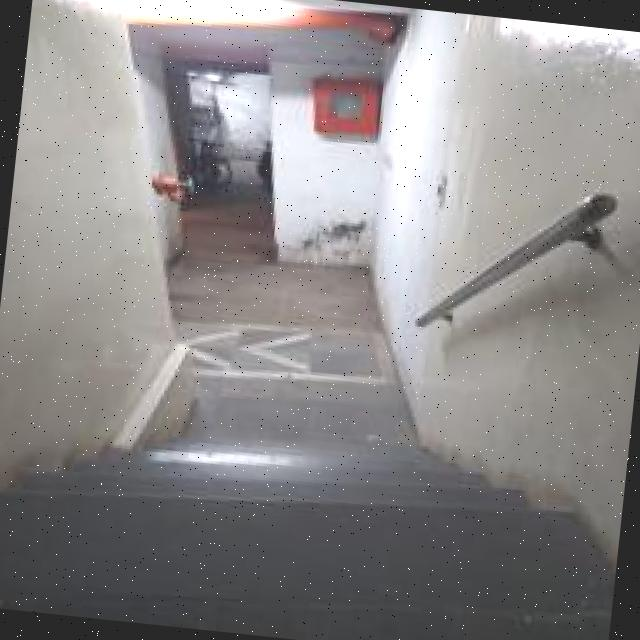stairs: (0, 334, 629, 640)
